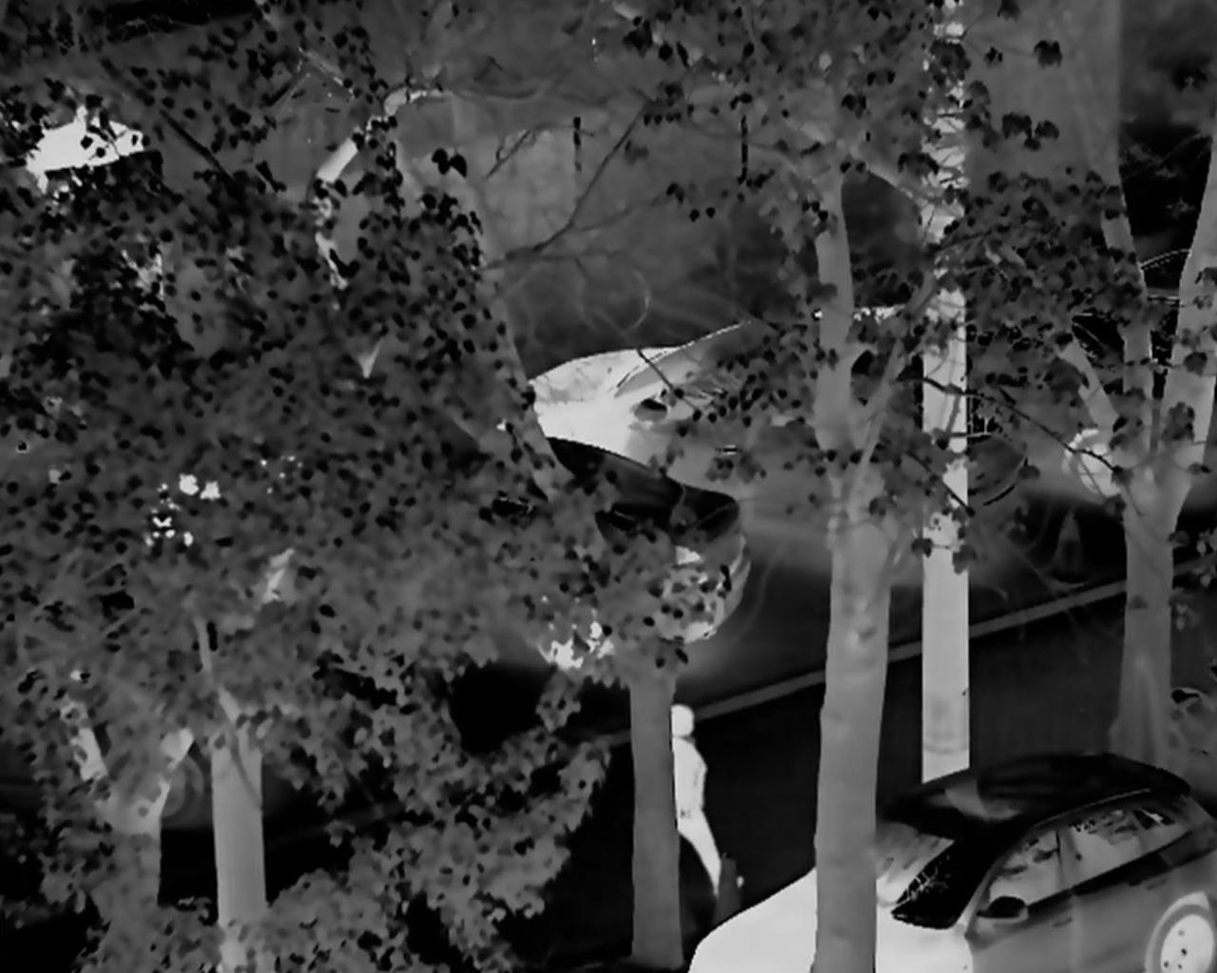person: (661, 700, 742, 900)
